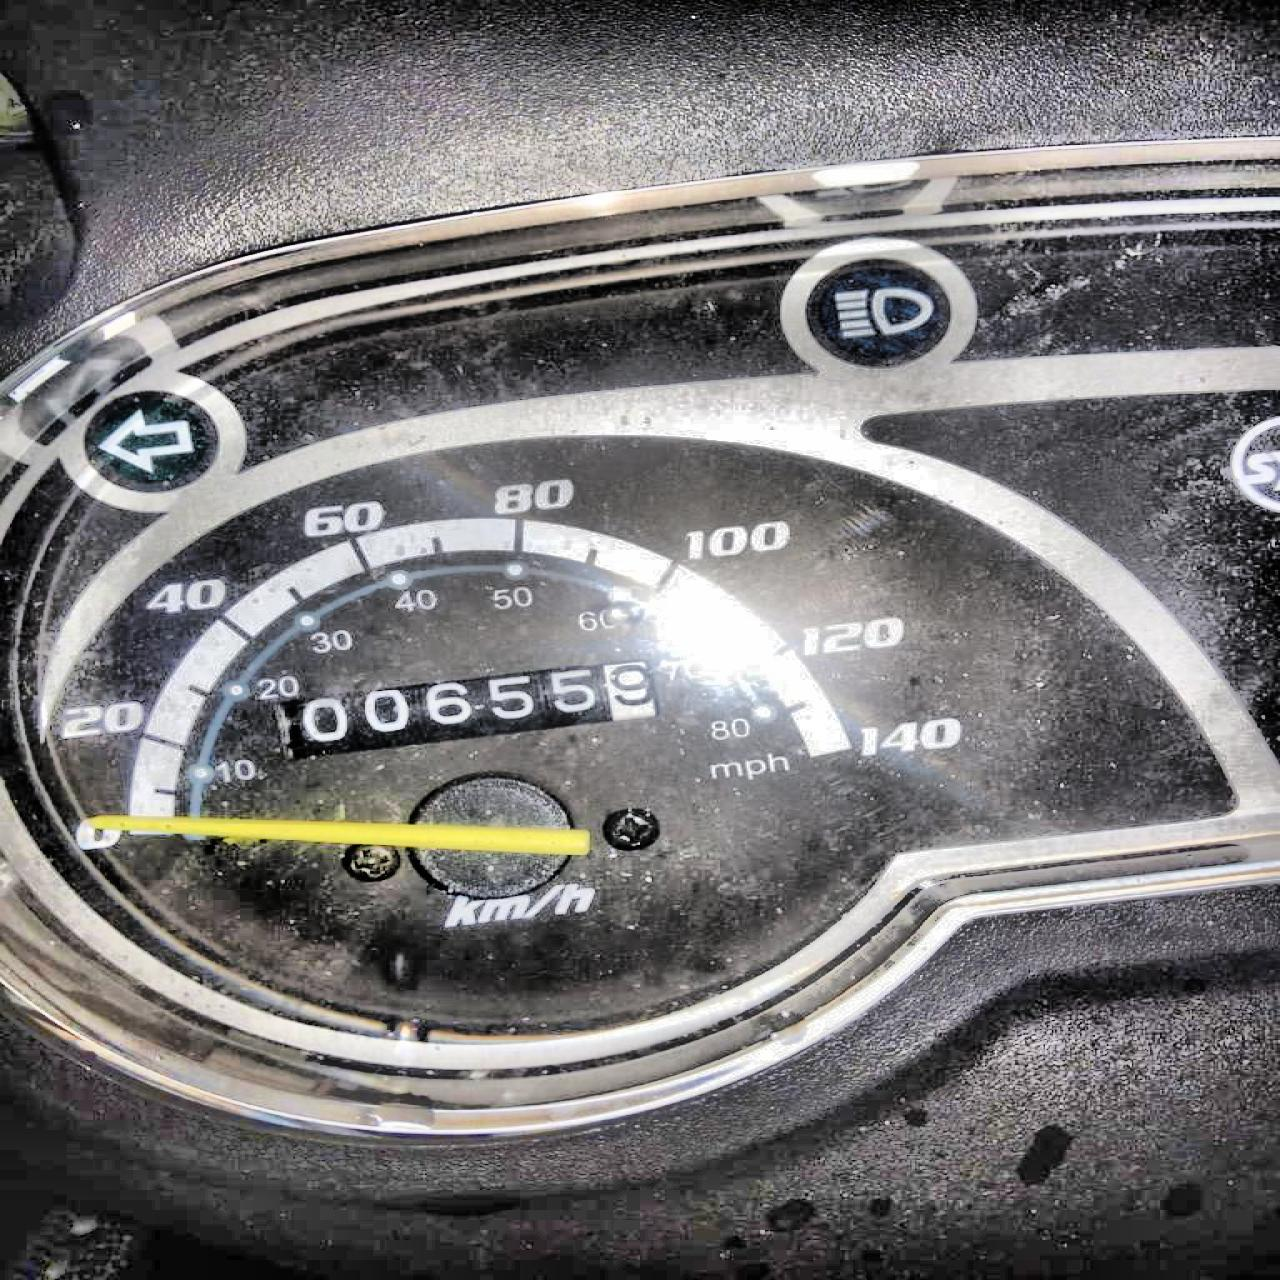0: (361, 685, 411, 731), (304, 695, 348, 743)
5: (546, 666, 598, 716), (485, 669, 533, 720)
6: (422, 678, 478, 728)
9: (604, 661, 660, 716)
odometer: (293, 655, 667, 751)
